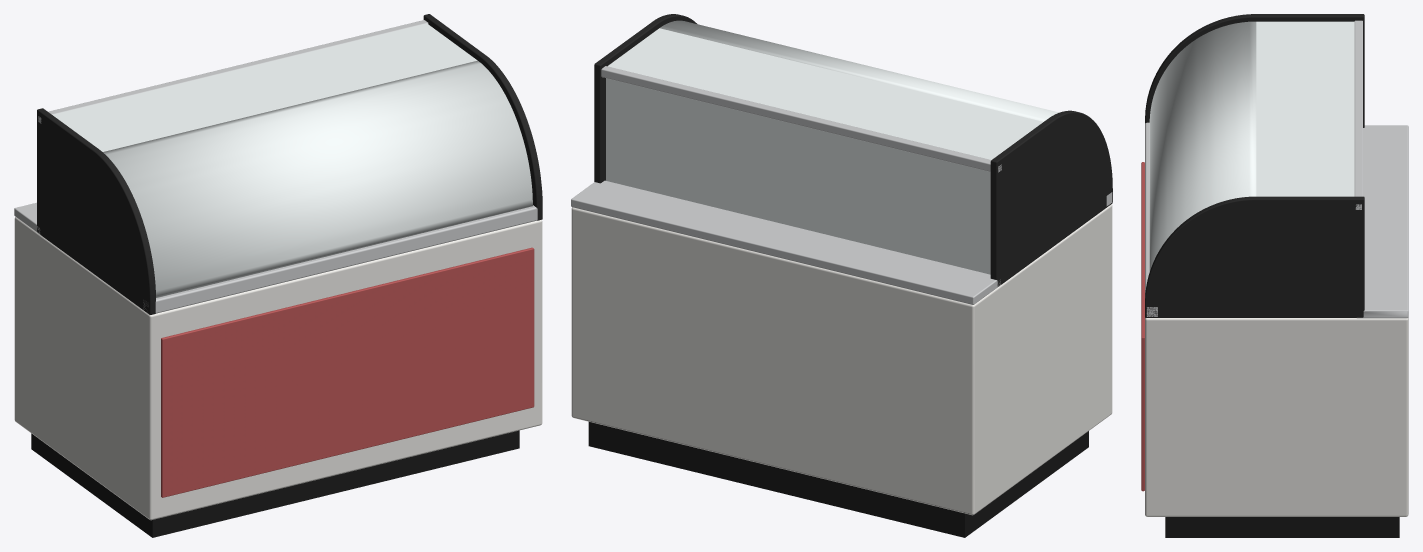
Rendered from vitrina_refrigerada.glb.
The picture shows the model from 3 angles, left to right: view 1: azimuth 30°, elevation 25°; view 2: azimuth 150°, elevation 25°; view 3: azimuth 270°, elevation 25°; orthographic projection. The views are drawn at different scales.
Visible parts, largest first — view 1: cristal_curvo, frente_marca, cuerpo, cabecero_dcha, zocalo, bandeja; view 2: cuerpo, cristal_curvo, bandeja, cabecero_dcha, zocalo; view 3: cuerpo, cristal_curvo, cabecero_dcha, bandeja, zocalo, frente_marca.
Part boxes in pixels (<box>): cristal_curvo: <box>52,23,532,297</box>; frente_marca: <box>161,247,534,497</box>; cuerpo: <box>14,217,542,520</box>; cabecero_dcha: <box>37,14,542,314</box>; zocalo: <box>31,430,519,537</box>; bandeja: <box>14,20,537,313</box>; cuerpo: <box>571,204,1112,515</box>; cristal_curvo: <box>606,20,1058,274</box>; bandeja: <box>571,66,1112,304</box>; cabecero_dcha: <box>594,14,1112,286</box>; zocalo: <box>588,422,1088,537</box>; cuerpo: <box>1145,317,1408,516</box>; cristal_curvo: <box>1149,21,1354,271</box>; cabecero_dcha: <box>1145,14,1364,317</box>; bandeja: <box>1145,20,1408,318</box>; zocalo: <box>1165,517,1399,537</box>; frente_marca: <box>1141,162,1144,491</box>.
Size of the model in its own units: 1.5 by 1.3 by 0.912.
